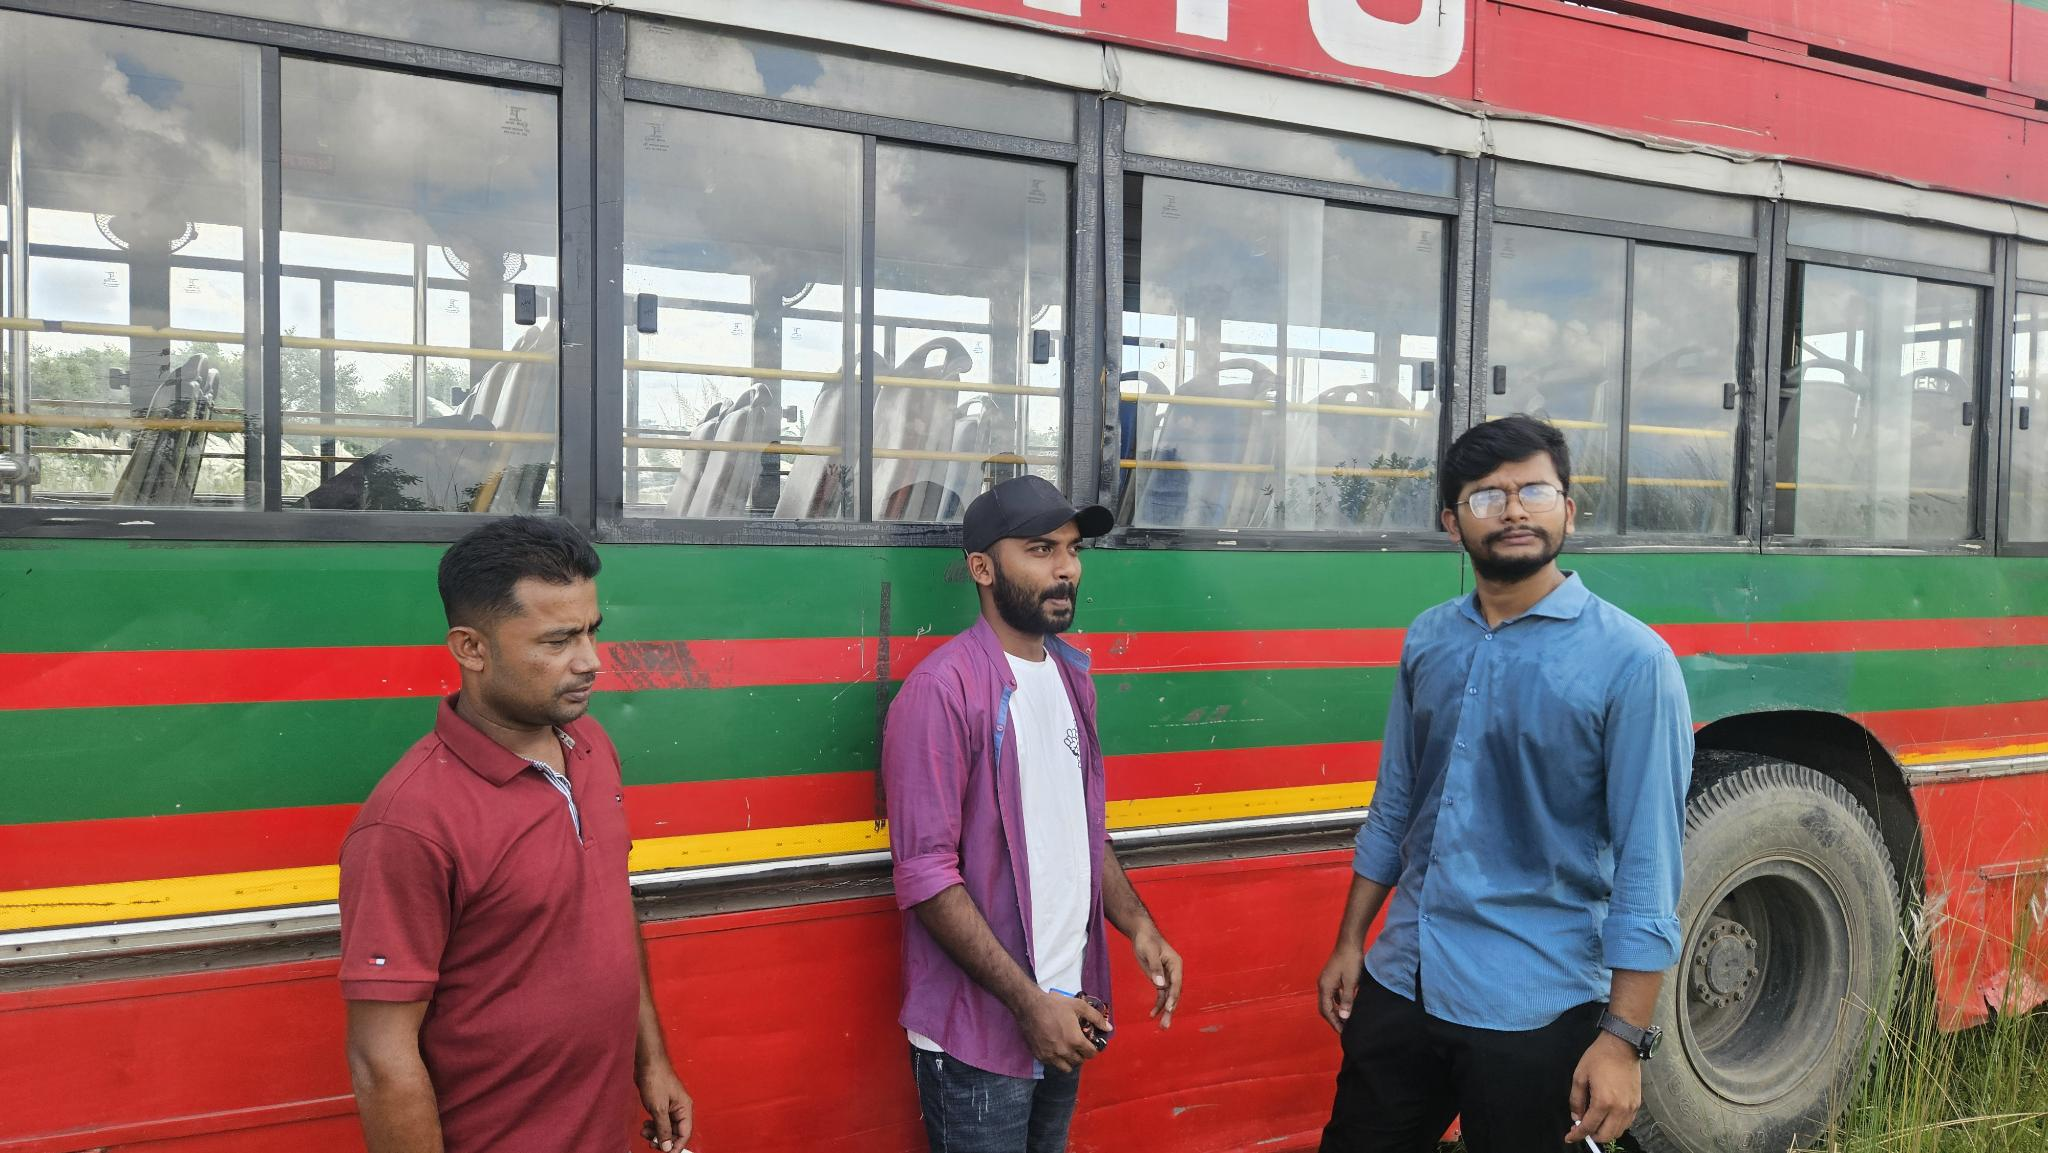cigarette: (1574, 1119, 1602, 1153)
nonSmoker: (340, 513, 692, 1149), (881, 477, 1183, 1153)
smoker: (1317, 405, 1695, 1153)
